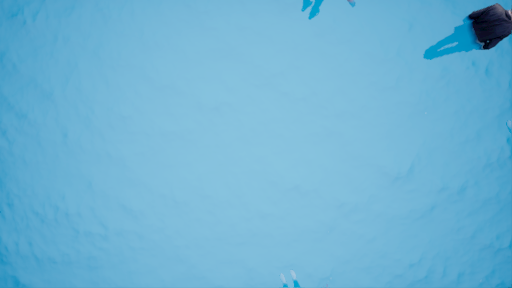person: (421, 2, 512, 65)
